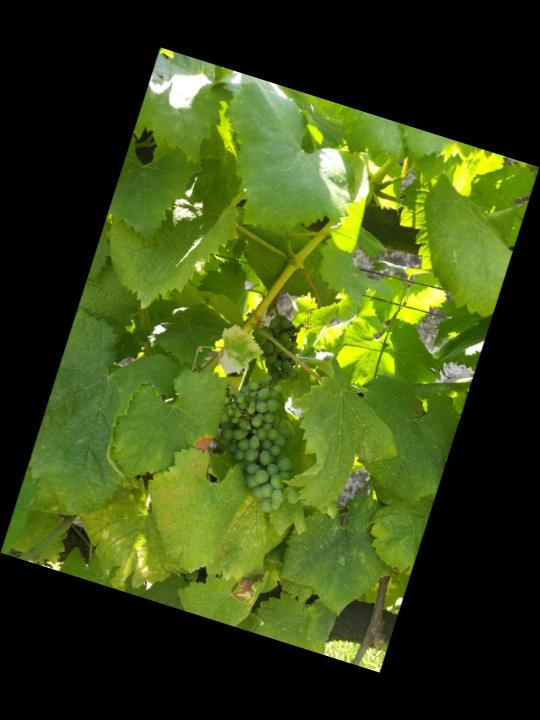grape: (193, 369, 333, 523), (238, 305, 314, 390)
